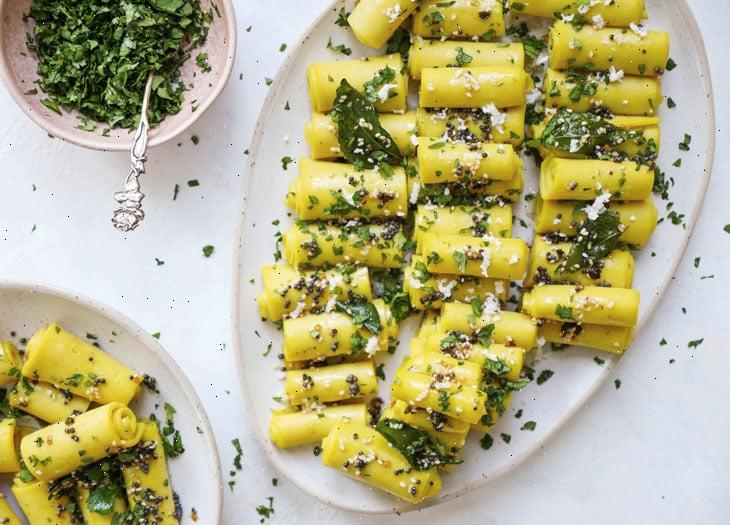khandvi: (260, 3, 697, 499), (4, 325, 194, 525)
